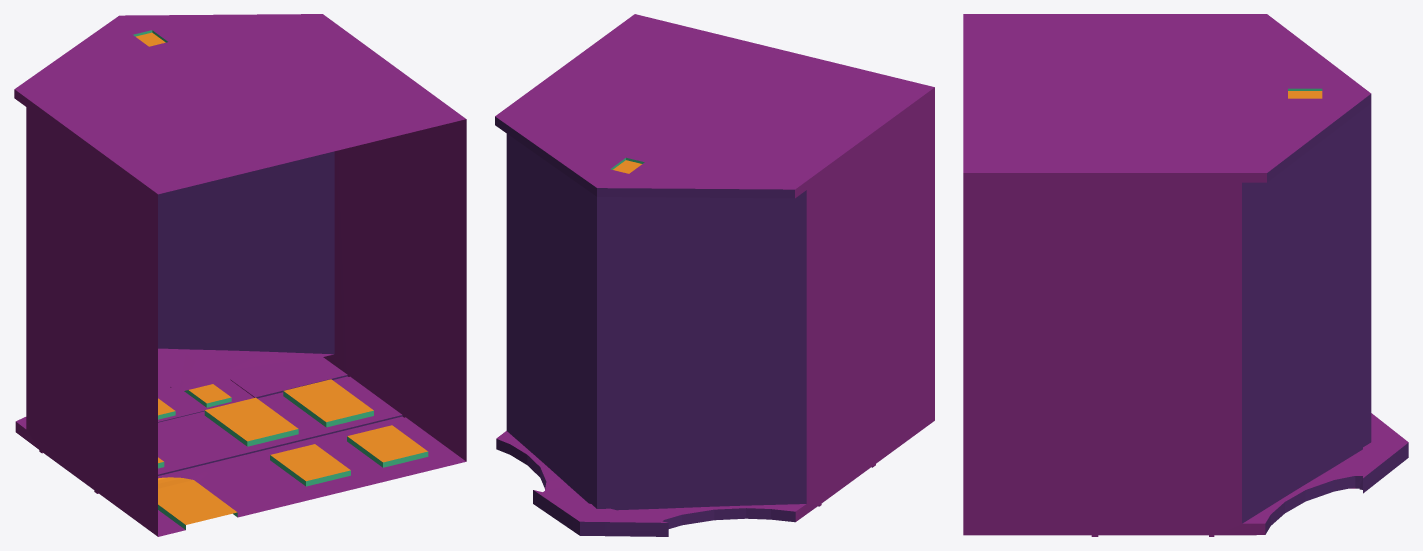
File: Dom Esterki Tier 3.fbx
The picture shows the model from 3 angles, left to right: view 1: azimuth 30°, elevation 25°; view 2: azimuth 150°, elevation 25°; view 3: azimuth 270°, elevation 25°; orthographic projection. The views are drawn at different scales.
Parts seen in each view (by area): view 1: Cube_Cube_001; view 2: Cube_Cube_001; view 3: Cube_Cube_001.
Part boxes in pixels (bbox=[...]): Cube_Cube_001: bbox=[14, 14, 466, 536]; Cube_Cube_001: bbox=[495, 14, 934, 536]; Cube_Cube_001: bbox=[963, 14, 1408, 536].
Bounding box in the file's own units: 3.44 × 3.68 × 4.08.
